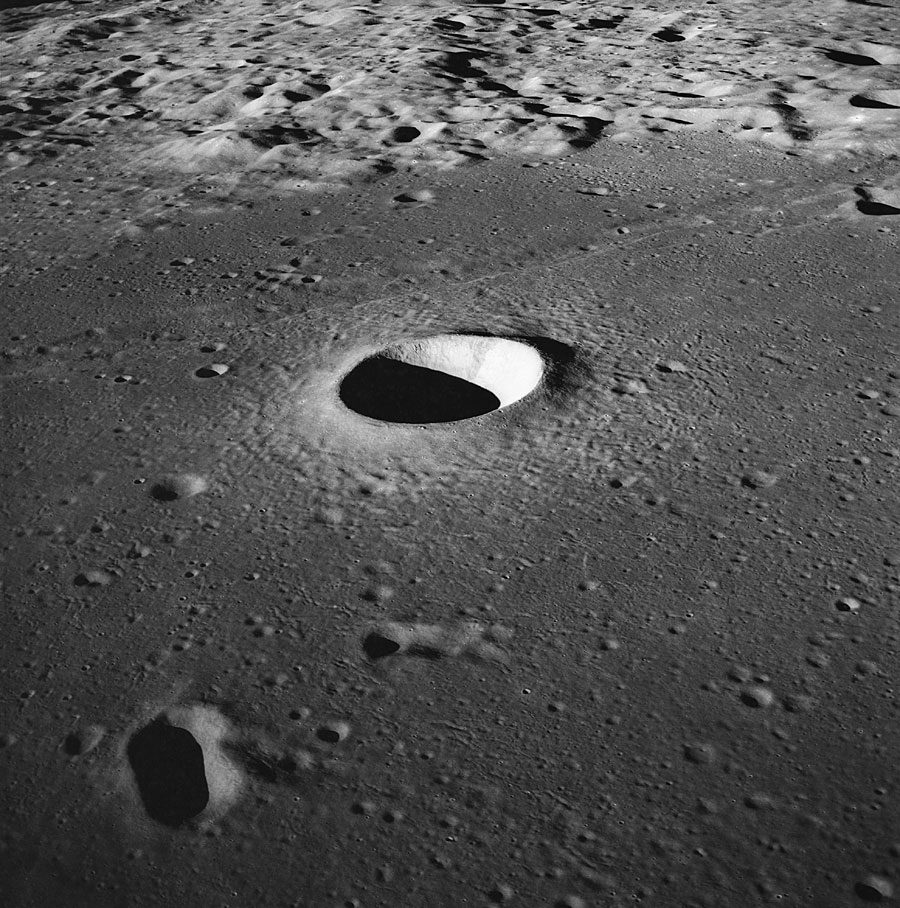crater: (281, 302, 592, 495), (99, 657, 279, 878), (361, 178, 487, 227), (128, 455, 222, 509), (731, 457, 792, 502)
